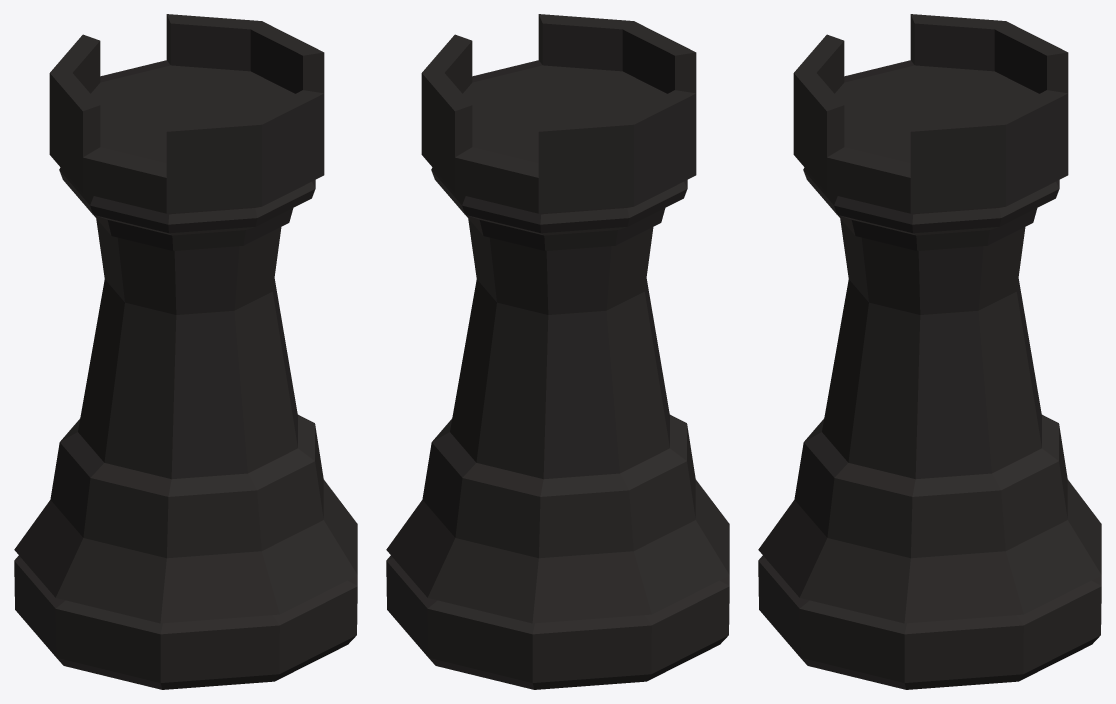
The model's file is orook.FBX.
3 views of the same model, side by side, from view 1: azimuth 30°, elevation 25°; view 2: azimuth 150°, elevation 25°; view 3: azimuth 270°, elevation 25° (orthographic).
Parts seen in each view (by area): view 1: Black_Rook_mesh; view 2: Black_Rook_mesh; view 3: Black_Rook_mesh.
Boxes of the visible parts, x1=… form: Black_Rook_mesh: x1=14, y1=14, x2=357, y2=689; Black_Rook_mesh: x1=386, y1=14, x2=729, y2=689; Black_Rook_mesh: x1=758, y1=14, x2=1101, y2=689.
Size of the model in its own units: 3.27 by 3.22 by 5.67.
1 material, 1 textured.
